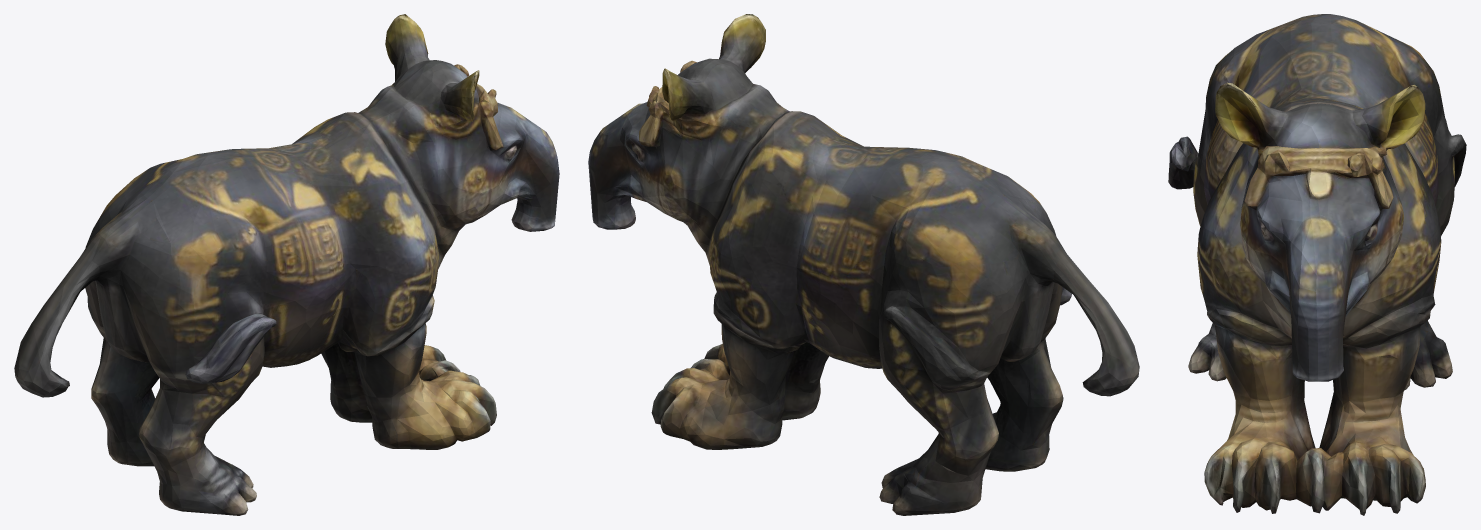
The model's file is gildedTapirSprite.glb.
3 renders of one model, left to right at view 1: azimuth 30°, elevation 25°; view 2: azimuth 150°, elevation 25°; view 3: azimuth 270°, elevation 25°, orthographic. The views are drawn at different scales.
Parts seen in each view (by area): view 1: world; view 2: world; view 3: world.
Part boxes in pixels (box(x1,y1,x2,y2)): world: box(14, 14, 559, 515); world: box(588, 14, 1139, 515); world: box(1168, 14, 1466, 515).
Bounding box in the file's own units: 0.9869 × 0.6499 × 0.4049.
Materials: 1 (1 with a texture image).
